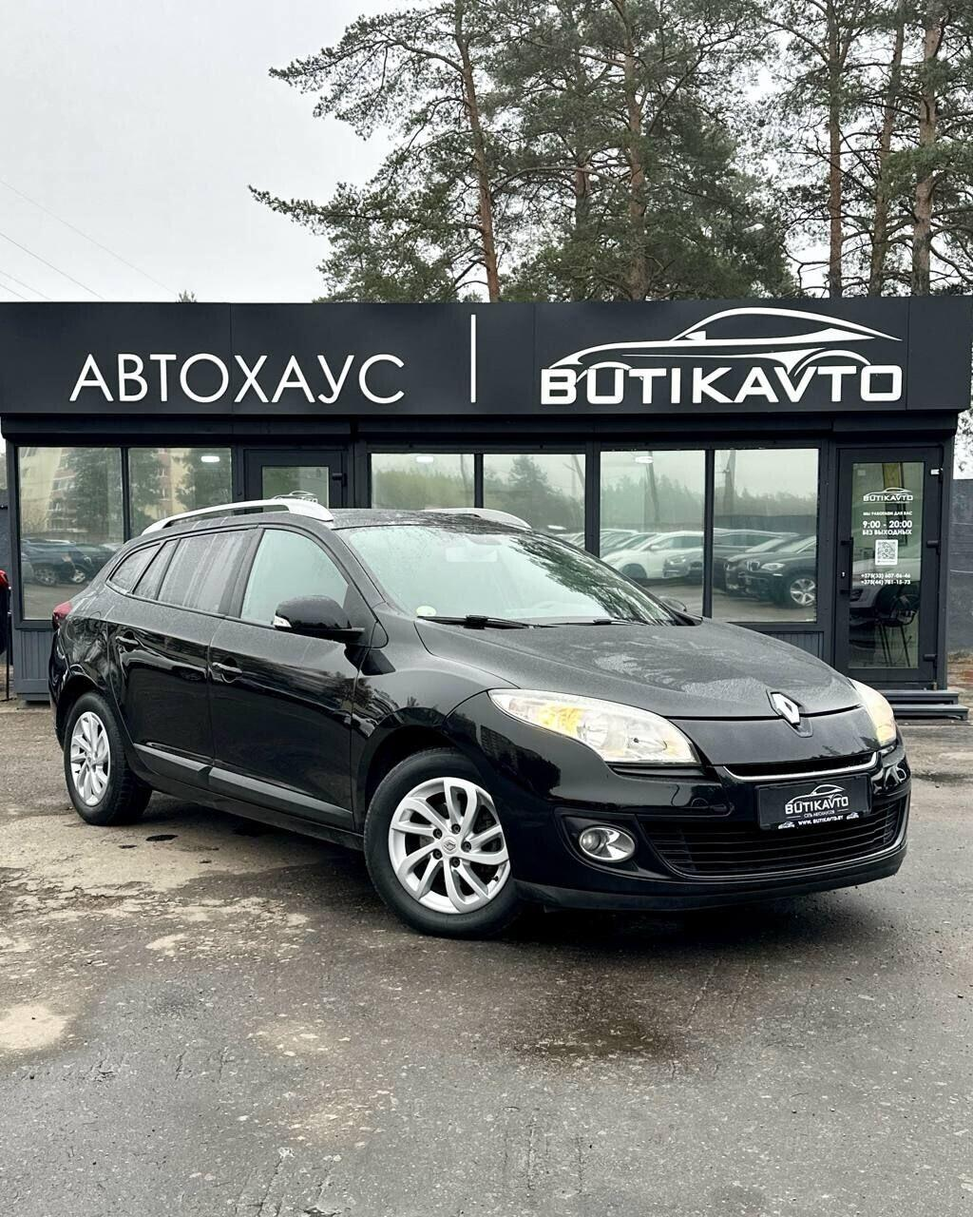Megane_2012-2014: (43, 501, 931, 949)
